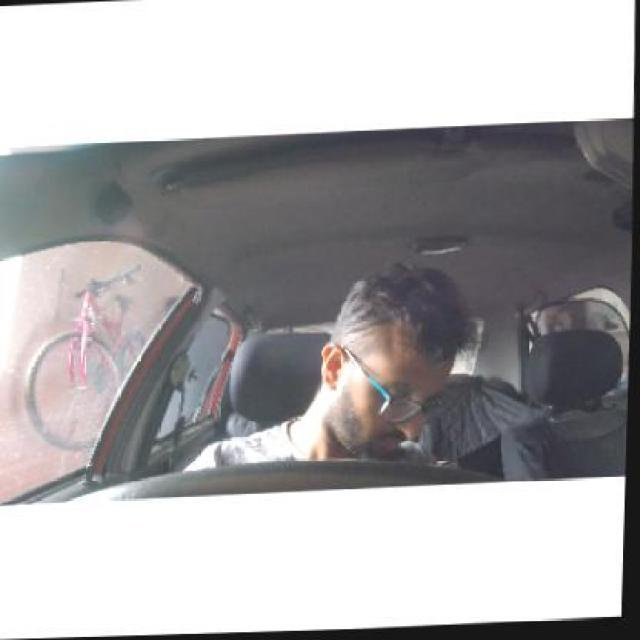drowsy: (321, 268, 453, 458)
